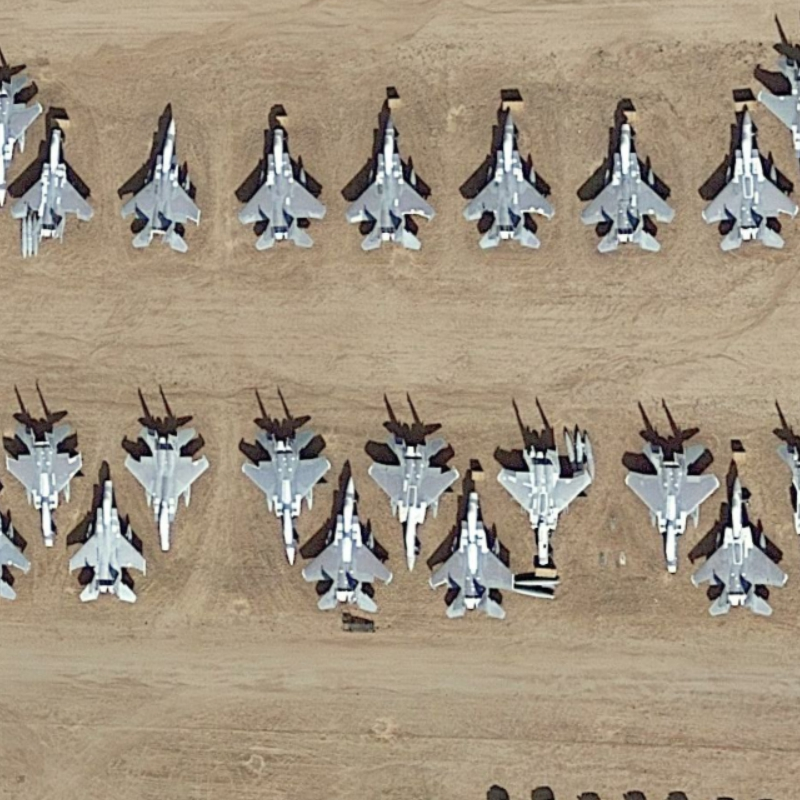A13: (454, 99, 561, 258), (615, 420, 722, 579), (577, 104, 683, 261), (234, 101, 338, 260), (110, 419, 226, 561), (696, 94, 800, 252), (302, 453, 396, 626), (686, 468, 790, 620), (236, 410, 333, 571), (365, 409, 456, 576), (343, 105, 441, 259), (115, 102, 209, 256), (4, 112, 106, 250), (428, 479, 520, 628), (64, 470, 155, 618), (1, 392, 85, 549), (497, 434, 594, 565)
